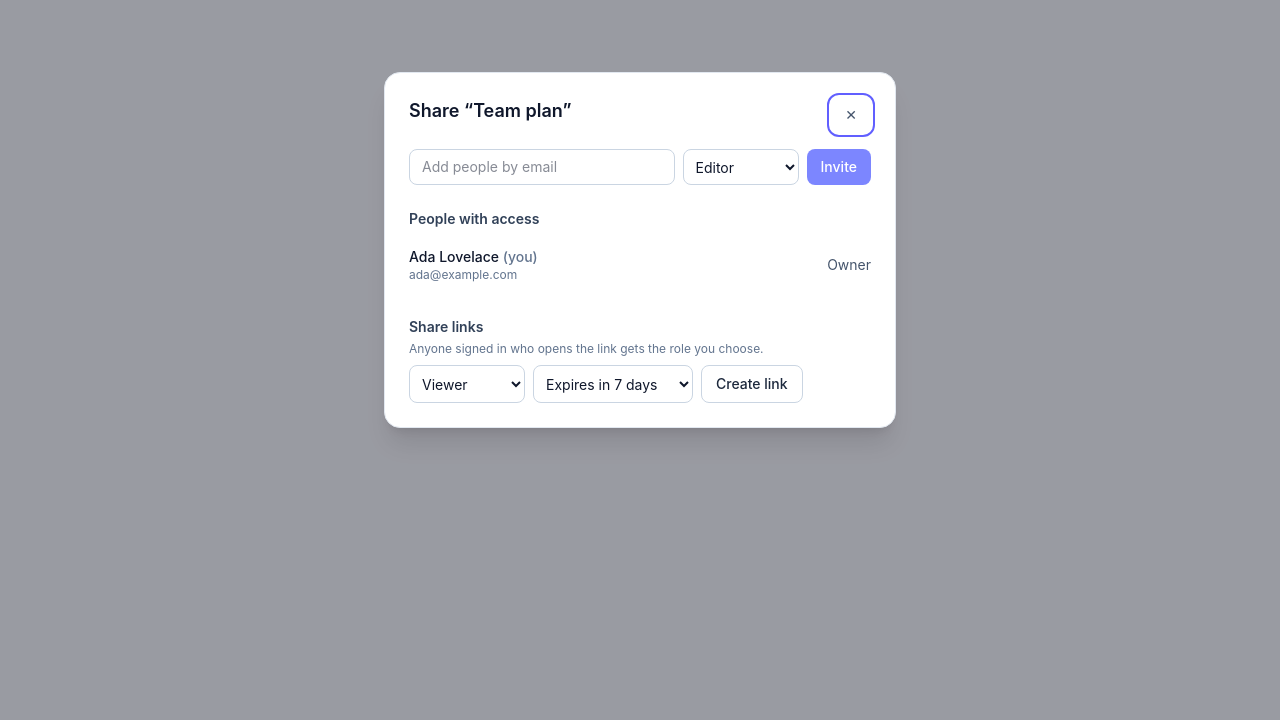
Test case: ShareDialog › explains when nobody has that email
This screenshot has width=1280, height=720.
Type "ghost@example.com" into the field named "Email to invite".
click(542, 167); type("ghost@example.com")  # box [409,149,674,185]
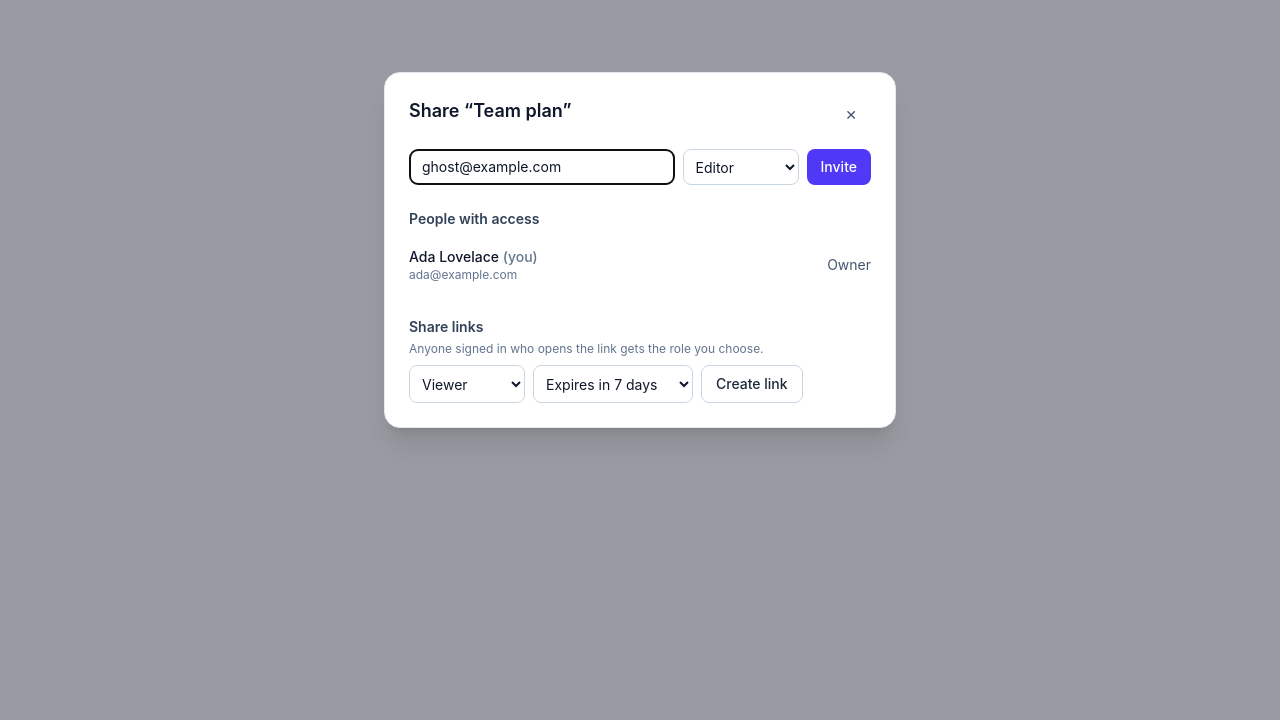
Click the button "Invite".
click(839, 167)  # box [806,149,871,185]
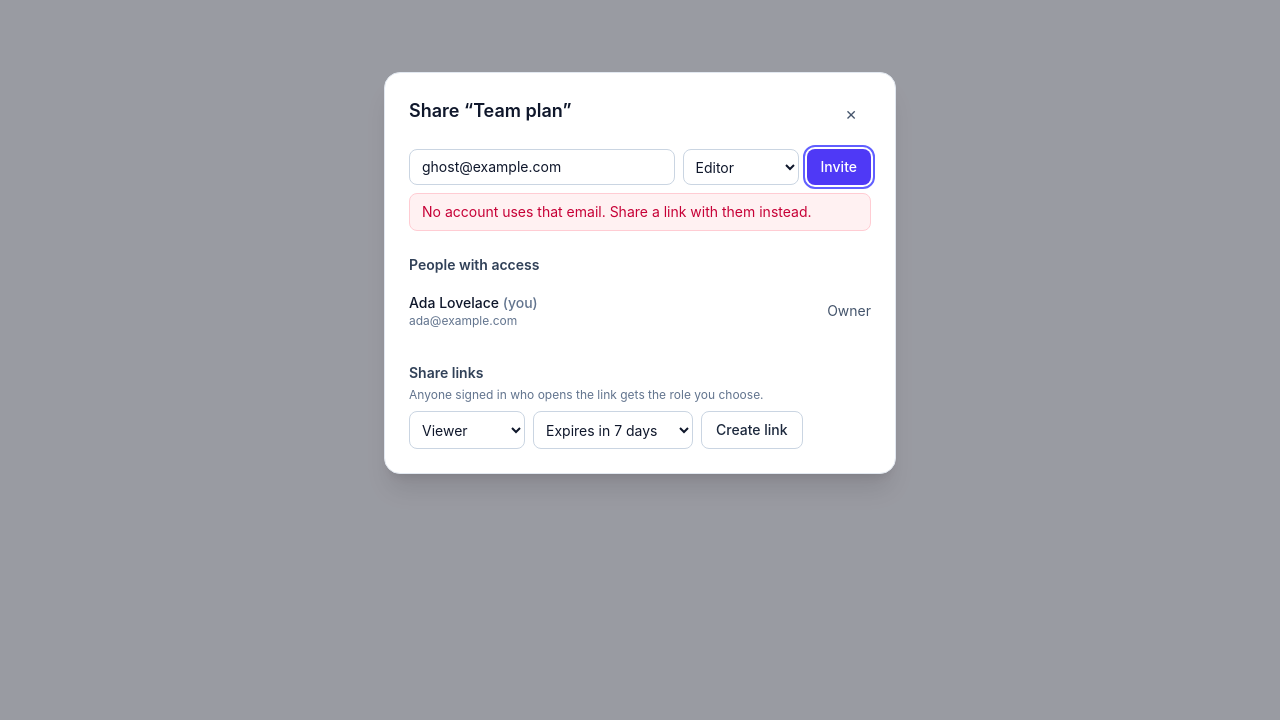
expect the message shows "Share a link with them instead": met, box [422,203,812,220]
